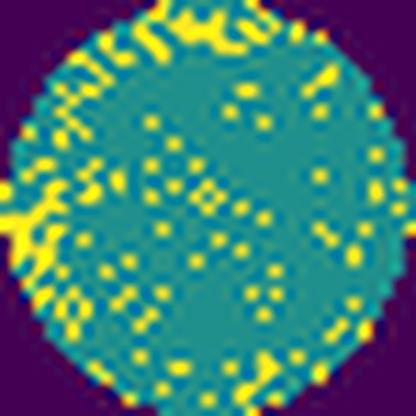Edge-Loc: (0, 171, 70, 338), (128, 0, 291, 69)
